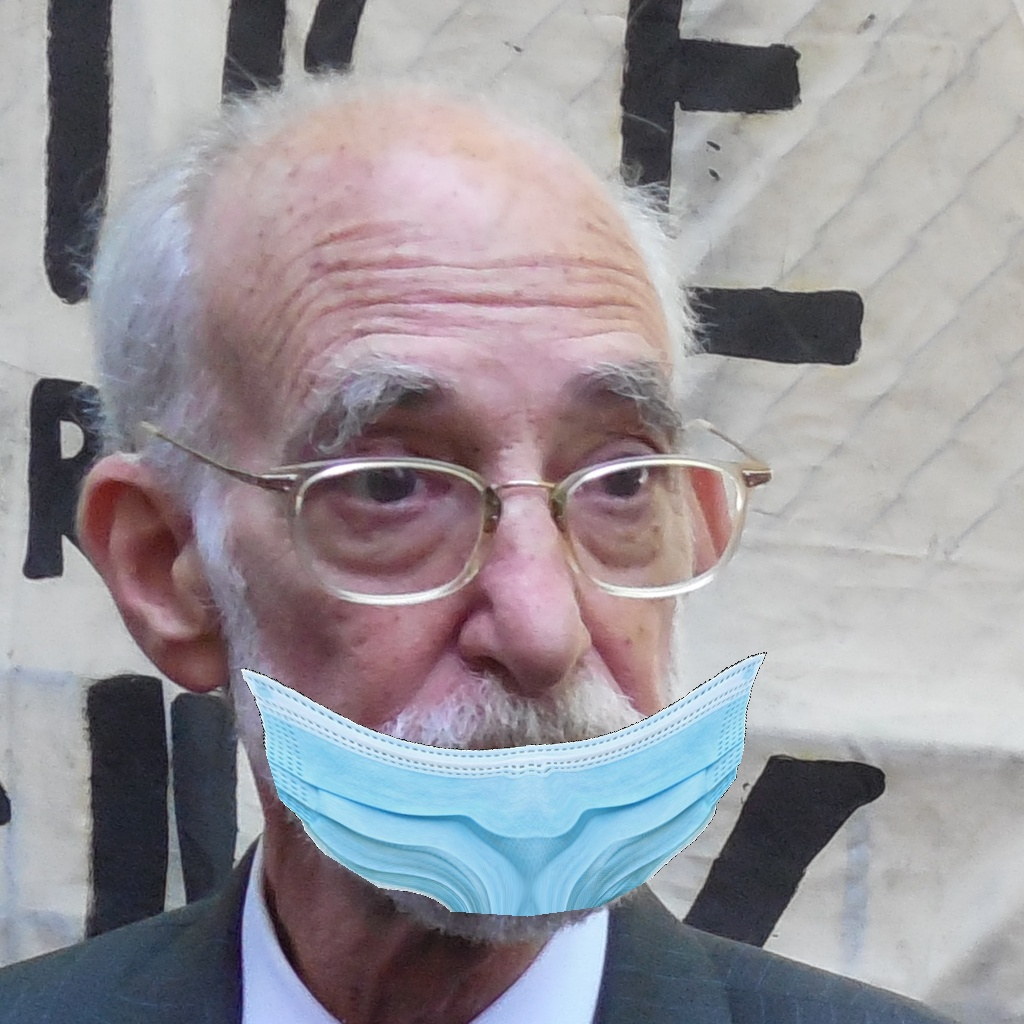mascarilla_mal_puesta: (106, 303, 798, 960)
